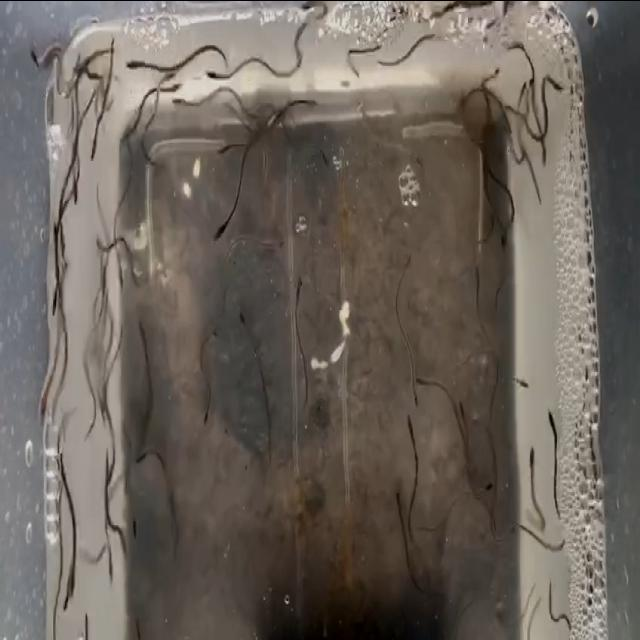inactive_glass_eel: (534, 362, 564, 451), (100, 514, 137, 558), (534, 53, 561, 111), (52, 554, 78, 609), (126, 45, 152, 100), (396, 408, 421, 462), (199, 393, 217, 463), (123, 430, 150, 476), (204, 216, 232, 260), (213, 140, 239, 187), (296, 255, 322, 302), (48, 274, 66, 340), (204, 50, 230, 94), (496, 209, 522, 253), (474, 472, 498, 519), (404, 368, 432, 408), (517, 438, 539, 482), (64, 170, 84, 216), (86, 128, 106, 174), (33, 382, 53, 428), (238, 303, 255, 355), (170, 82, 192, 120), (20, 34, 42, 71), (387, 487, 410, 517), (93, 215, 109, 258), (411, 362, 432, 394)
